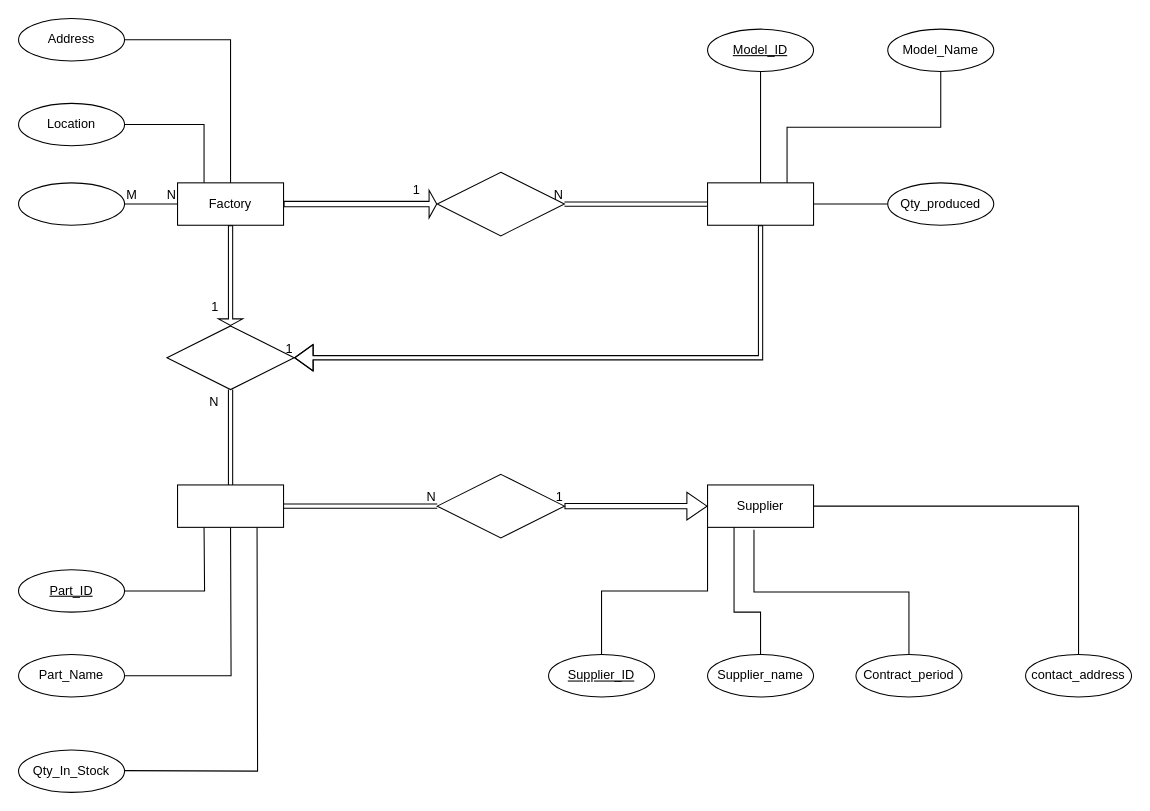
The diagram is 1150 pixels wide and 811 high, and some of its shapes have lost their labels. The centre of each missing label's shape, as x and y in pixels:
Bike model: the point at 760,203
Factory_ID: the point at 71,203
Part: the point at 230,505
Produces: the point at 500,203
Supplied by: the point at 500,505
Uses: the point at 230,357
